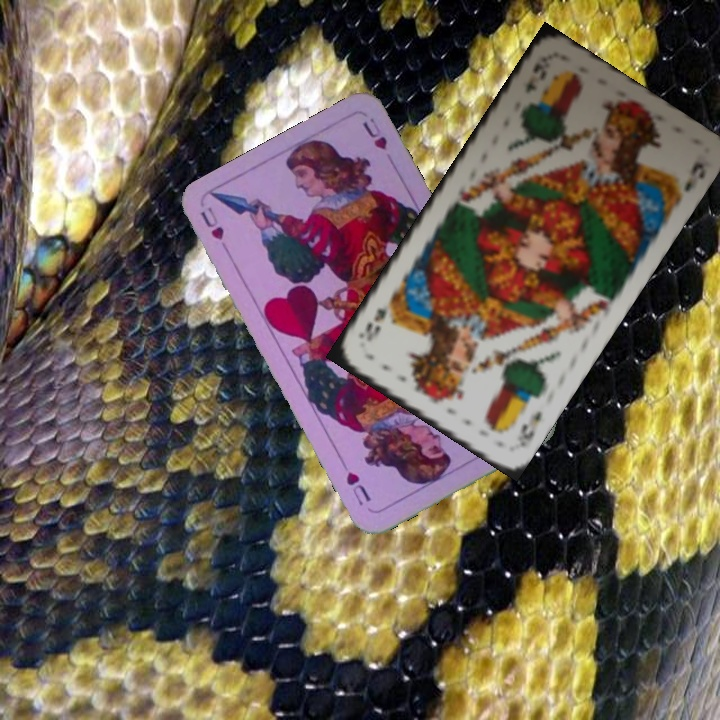EK: (513, 406, 545, 451), (521, 60, 551, 96)
HU: (196, 203, 234, 257)
